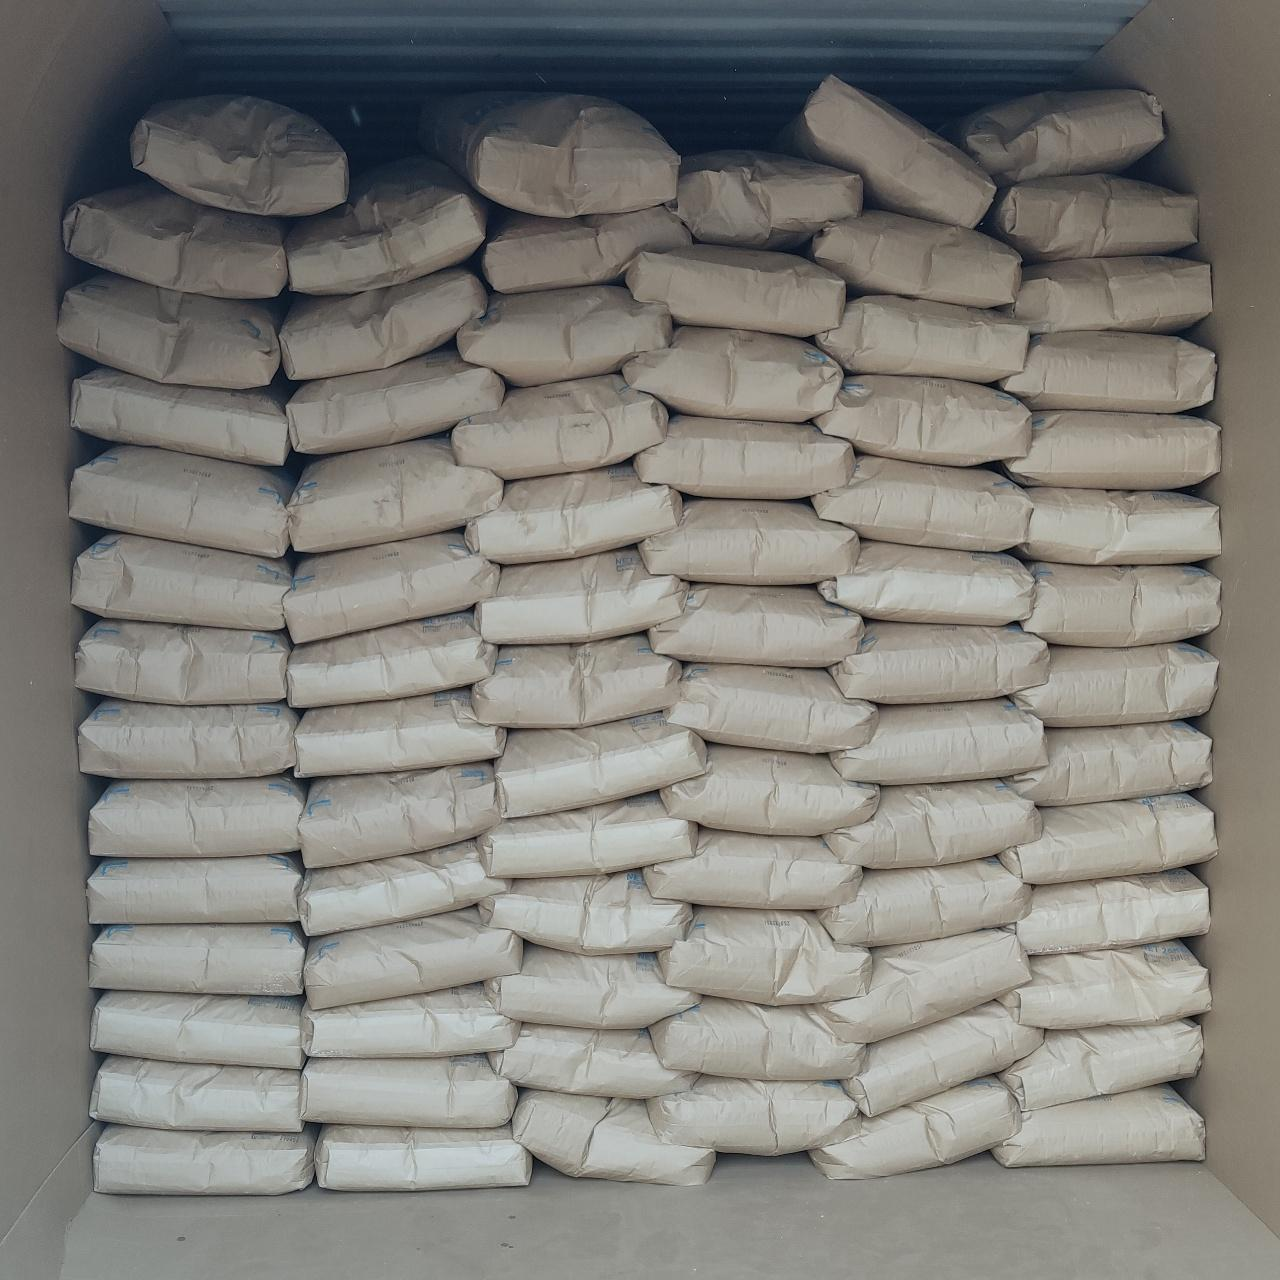sack: (776, 76, 992, 226), (420, 96, 678, 215), (288, 156, 484, 292), (132, 96, 346, 215), (60, 275, 280, 386), (72, 445, 292, 556), (66, 184, 286, 294), (290, 436, 501, 550), (812, 930, 1028, 1040), (282, 268, 486, 377), (286, 532, 496, 638), (454, 376, 668, 478), (288, 350, 502, 452), (844, 1005, 1039, 1114), (306, 908, 518, 1006), (944, 90, 1162, 184), (468, 467, 678, 564), (458, 286, 670, 382), (74, 535, 290, 628), (812, 456, 1030, 549), (812, 1078, 1020, 1176), (660, 908, 870, 1005), (72, 368, 286, 462), (496, 716, 702, 813), (624, 328, 840, 420), (810, 212, 1020, 306), (476, 549, 686, 642), (300, 764, 501, 862), (300, 840, 508, 934), (626, 246, 842, 334), (288, 614, 493, 706), (1002, 796, 1214, 884), (813, 376, 1030, 462), (662, 744, 878, 830), (672, 152, 862, 248), (474, 636, 678, 726), (998, 942, 1210, 1028), (512, 1090, 710, 1182), (983, 176, 1198, 260), (816, 297, 1026, 382), (668, 663, 874, 750), (478, 794, 694, 876), (484, 206, 690, 292), (1000, 1022, 1200, 1110), (642, 501, 856, 583), (826, 782, 1039, 864), (636, 416, 855, 496), (79, 620, 290, 702), (835, 700, 1044, 782), (652, 584, 862, 666), (821, 860, 1030, 942), (818, 542, 1030, 622), (297, 690, 502, 774), (486, 944, 697, 1024), (832, 622, 1046, 702), (652, 998, 862, 1078), (1006, 722, 1212, 804), (646, 830, 860, 908), (90, 776, 302, 855), (1012, 644, 1214, 726), (1000, 334, 1214, 411), (994, 1088, 1204, 1166), (1014, 870, 1206, 954), (1002, 411, 1218, 486), (482, 872, 690, 949), (80, 700, 297, 774), (651, 1076, 858, 1152), (1022, 564, 1220, 644), (1005, 258, 1210, 334), (91, 1056, 302, 1130), (1016, 488, 1218, 564), (91, 992, 302, 1064), (302, 1056, 515, 1126), (302, 986, 518, 1054), (91, 924, 302, 992), (90, 856, 302, 922), (490, 1024, 694, 1094), (96, 1126, 314, 1190), (318, 1126, 530, 1189)
